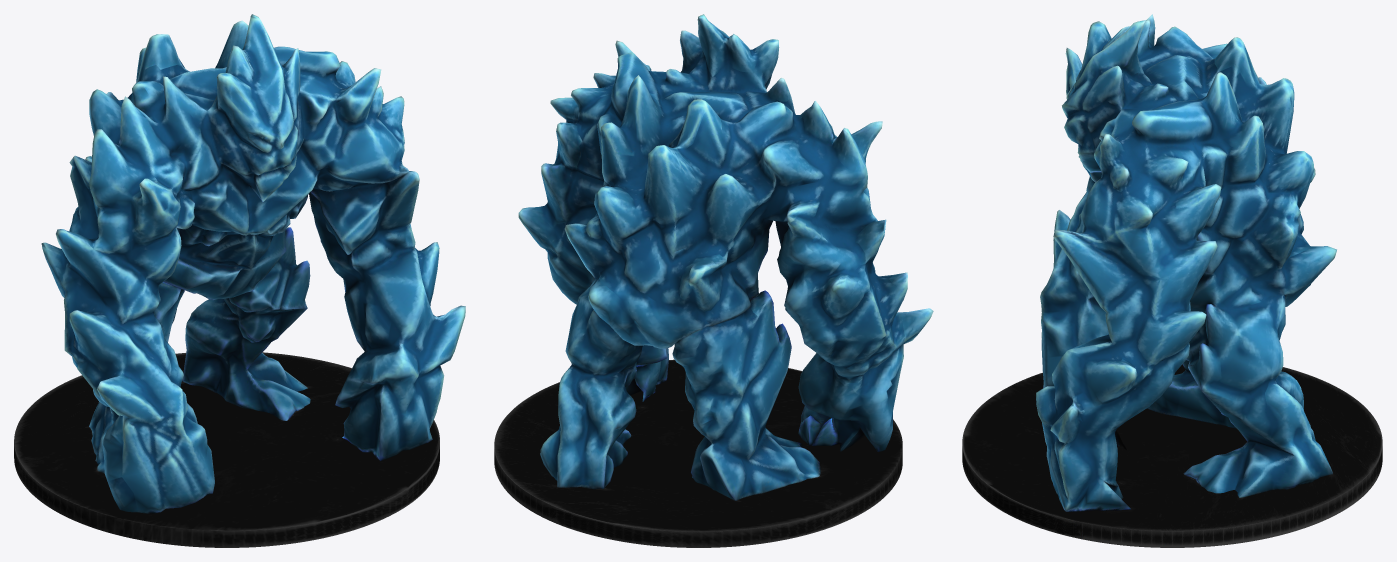
Rendered from MZ4250 - Ice Elemental.glb.
The picture shows the model from 3 angles, left to right: view 1: azimuth 30°, elevation 25°; view 2: azimuth 150°, elevation 25°; view 3: azimuth 270°, elevation 25°; orthographic projection. The views are drawn at different scales.
Parts seen in each view (by area): view 1: body_low.001, base_low.001; view 2: body_low.001, base_low.001; view 3: body_low.001, base_low.001.
Boxes of the visible parts, x1,y1,x2,y2 form: body_low.001: (41,14,465,513); base_low.001: (14,352,439,547); body_low.001: (518,14,933,500); base_low.001: (494,359,902,547); body_low.001: (1036,14,1336,511); base_low.001: (962,364,1382,547).
Size of the model in its own units: 4.64 by 5.26 by 4.51.
Materials: 1 (1 with a texture image).
